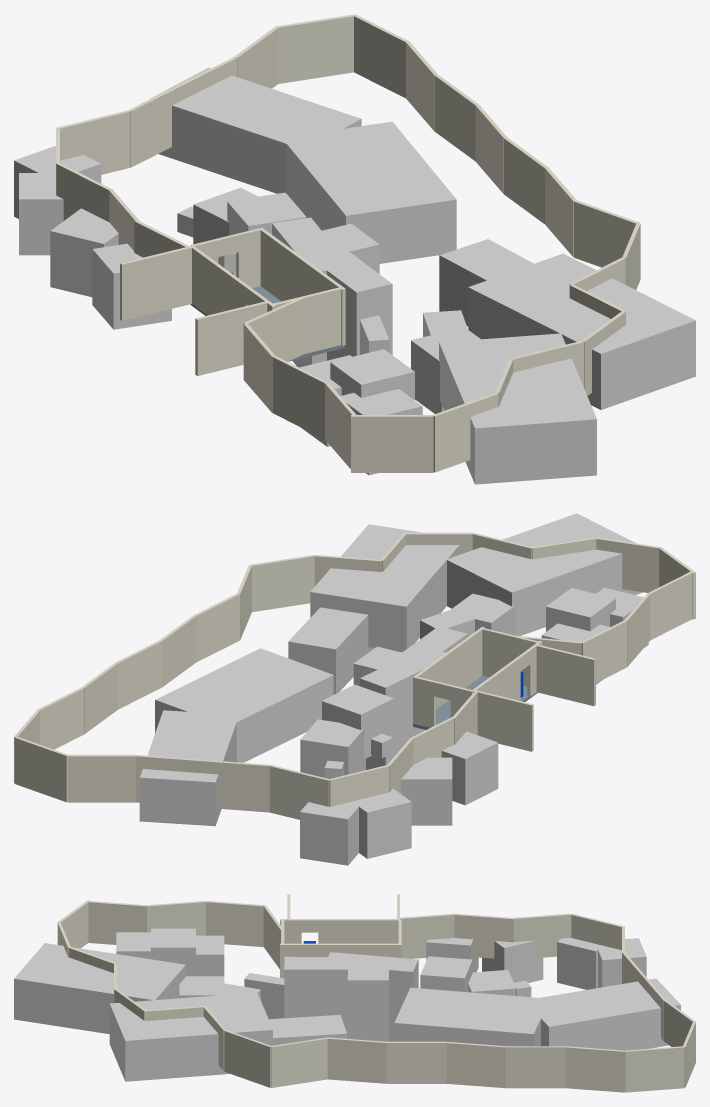
Rendered from Blockout.fbx.
The picture shows the model from 3 angles, top to bottom: view 1: azimuth 30°, elevation 25°; view 2: azimuth 150°, elevation 25°; view 3: azimuth 270°, elevation 25°; orthographic projection. The views are drawn at different scales.
Parts seen in each view (by area): view 1: Cube19, Cube16, Cube21, Cube22, Wall_400x331, Wall_400x316, Cube5, Wall_400x306, Cube13, Cube20, Wall_400x312, Wall_400x307 (+41 smaller); view 2: Cube21, Cube16, Cube19, Cube22, Cube20, Cube14, Wall_400x315, Cube15, Cube13, Cube12, Wall_400x324, Cube7 (+41 smaller); view 3: Cube19, Cube16, Cube21, Cube22, Cube5, Cube6, Wall_400x321, Wall_400x319, Wall_400x322, Wall_400x317, Wall_400x318, Wall_400x320 (+37 smaller).
Boxes of the visible parts, box(x1,y1,x2,y2) form: Cube19: box(468, 253, 695, 409); Cube16: box(439, 333, 596, 484); Cube21: box(282, 121, 456, 263); Cube22: box(151, 67, 361, 193); Wall_400x331: box(351, 415, 433, 472); Wall_400x316: box(276, 14, 354, 83); Cube5: box(296, 244, 392, 360); Wall_400x306: box(120, 247, 191, 320); Cube13: box(50, 208, 118, 297); Cube20: box(439, 239, 533, 326); Wall_400x312: box(57, 110, 130, 174); Wall_400x307: box(195, 301, 267, 375); Cube21: box(155, 648, 333, 762); Cube16: box(447, 513, 642, 635); Cube19: box(310, 524, 459, 652); Cube22: box(139, 710, 236, 826); Cube20: box(288, 607, 374, 694); Cube14: box(300, 798, 365, 865); Wall_400x315: box(68, 754, 135, 802); Cube15: box(354, 788, 411, 858); Cube13: box(401, 757, 452, 825); Cube12: box(441, 731, 498, 805); Wall_400x324: box(250, 555, 314, 612); Cube7: box(360, 647, 445, 769); Cube19: box(109, 992, 272, 1081); Cube16: box(14, 943, 185, 1034); Cube21: box(394, 987, 549, 1046); Cube22: box(540, 978, 680, 1050); Cube5: box(284, 956, 374, 1038); Cube6: box(347, 961, 389, 1041); Wall_400x321: box(386, 1041, 446, 1083); Wall_400x319: box(506, 1046, 565, 1088); Wall_400x322: box(327, 1037, 386, 1083); Wall_400x317: box(625, 1046, 684, 1092); Wall_400x318: box(565, 1046, 624, 1092); Wall_400x320: box(446, 1042, 505, 1088).
Bounding box in the file's own units: 6088 × 1593 × 11139.
